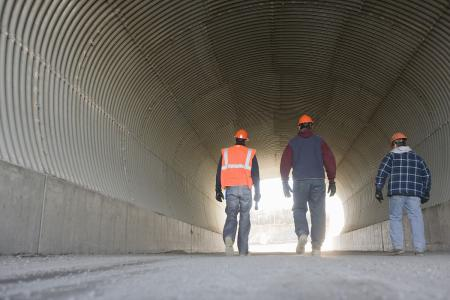boots: (220, 231, 238, 255), (296, 233, 306, 253), (388, 248, 404, 254), (414, 249, 424, 256)
gloves: (282, 181, 291, 197), (328, 181, 336, 196), (374, 191, 383, 203), (421, 192, 430, 204), (216, 192, 224, 202), (420, 196, 428, 203), (254, 201, 258, 210)
hard-hat: (296, 114, 314, 126), (234, 128, 249, 140), (391, 131, 407, 142)
person: (280, 114, 337, 256), (375, 130, 432, 256), (215, 127, 261, 256)
vest: (217, 141, 253, 187)
